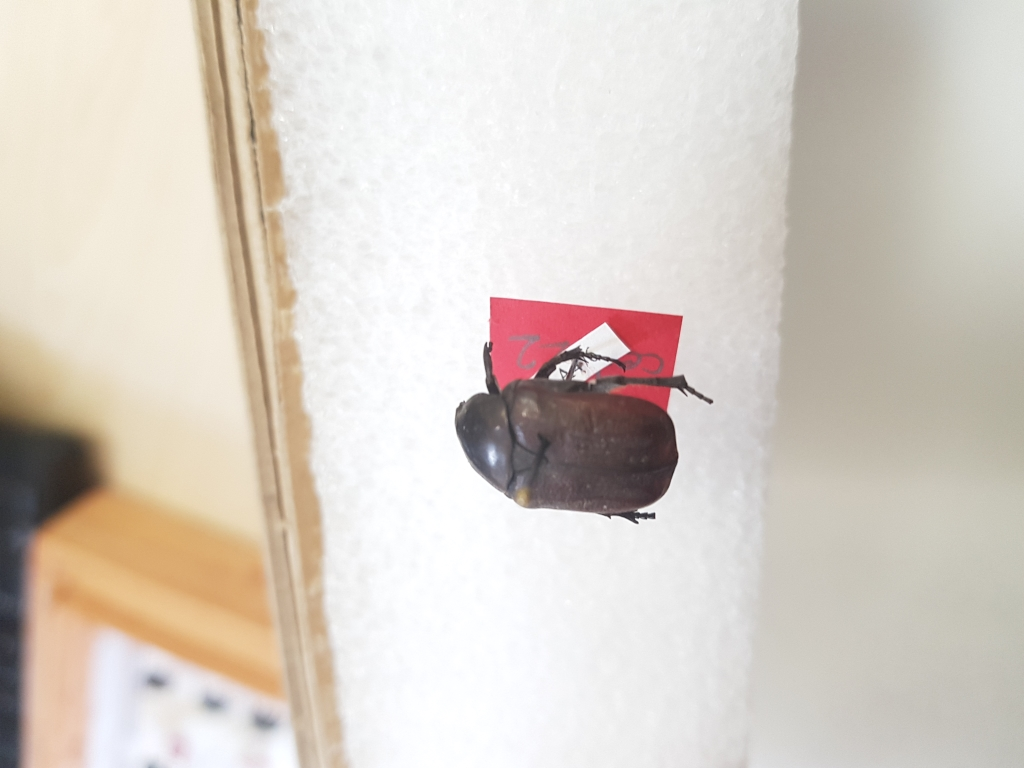Protaetia_asiatica: (455, 328, 725, 539)
